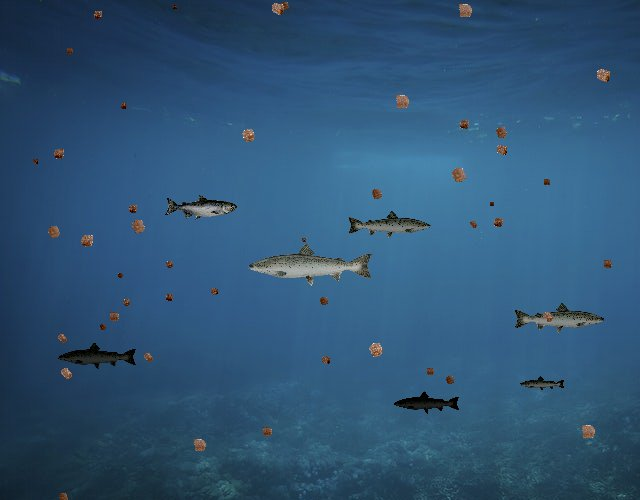Fish: (246, 241, 375, 287), (513, 302, 607, 336), (346, 209, 432, 240), (57, 341, 138, 370), (165, 195, 238, 221), (394, 391, 462, 415), (519, 375, 566, 392)
Pellet: (234, 122, 262, 150), (54, 361, 79, 386), (264, 0, 291, 23), (29, 155, 41, 167)
